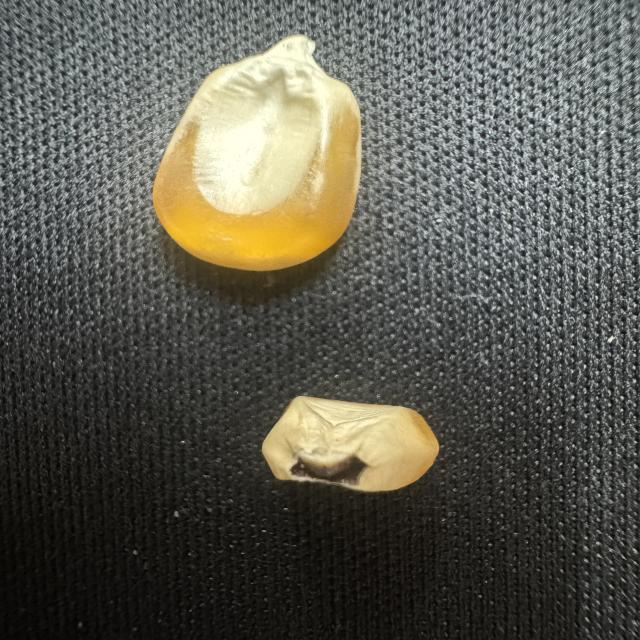Bad-Seed: (244, 377, 455, 517)
Good-Seed: (138, 37, 407, 287)
